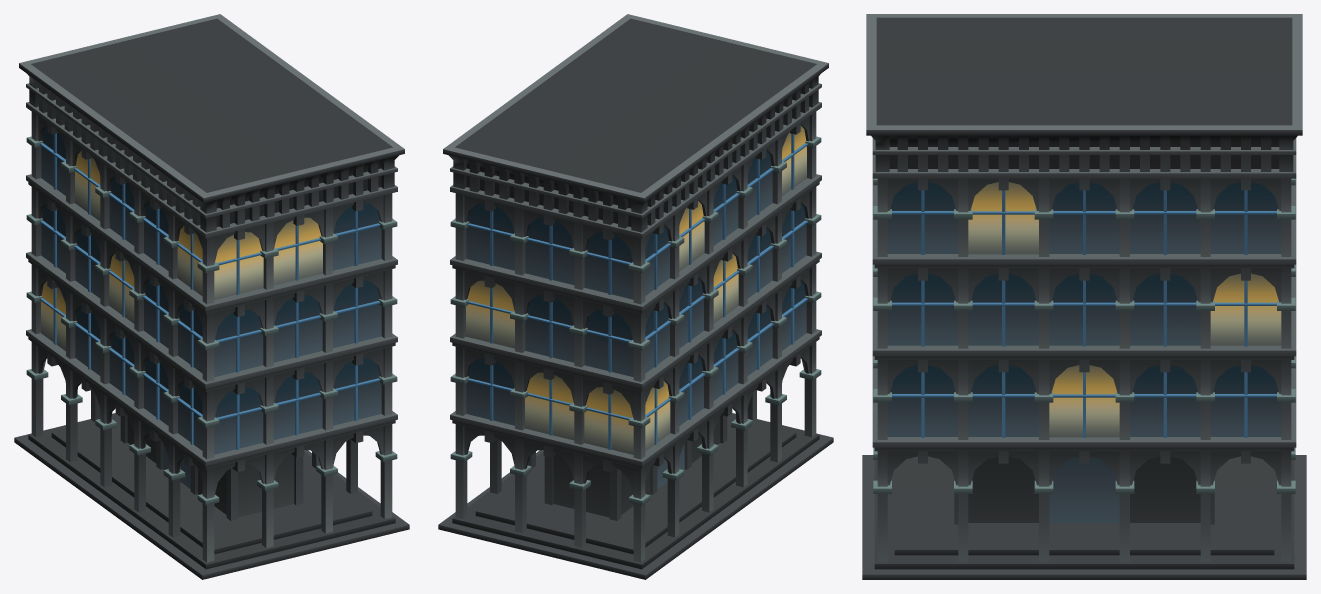
Rendered from Building_13A.fbx.
3 renders of one model, left to right at view 1: azimuth 30°, elevation 25°; view 2: azimuth 150°, elevation 25°; view 3: azimuth 270°, elevation 25°, orthographic. The views are drawn at different scales.
Visible parts, largest first — view 1: Building_13A, Window_Lights_13A; view 2: Building_13A, Window_Lights_13A; view 3: Building_13A, Window_Lights_13A.
Boxes of the visible parts, box(x1,y1,x2,y2) form: Building_13A: box(14, 14, 409, 579); Window_Lights_13A: box(41, 150, 322, 350); Building_13A: box(438, 14, 833, 579); Window_Lights_13A: box(466, 126, 806, 454); Building_13A: box(862, 14, 1306, 579); Window_Lights_13A: box(968, 182, 1281, 437).
Bounding box in the file's own units: 1400 × 2453 × 2200.
